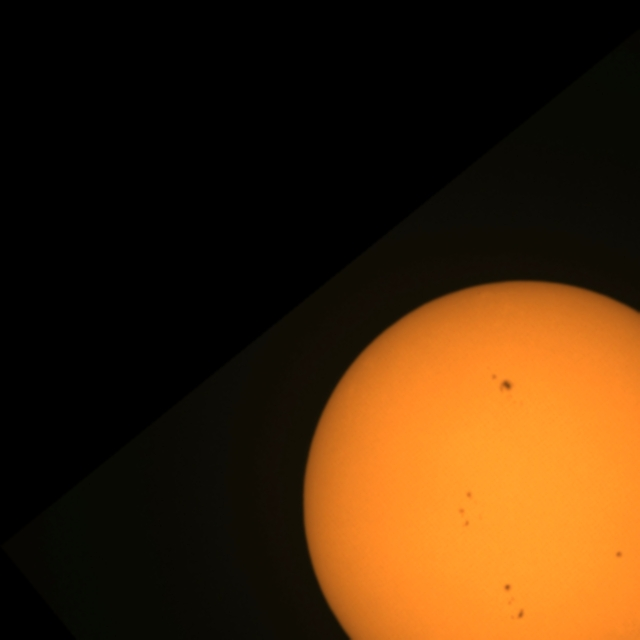sunspot: (497, 582, 528, 626), (501, 581, 518, 615), (490, 372, 515, 394), (456, 504, 473, 530), (509, 607, 526, 623), (502, 582, 514, 596), (613, 549, 625, 561), (464, 489, 475, 502)
